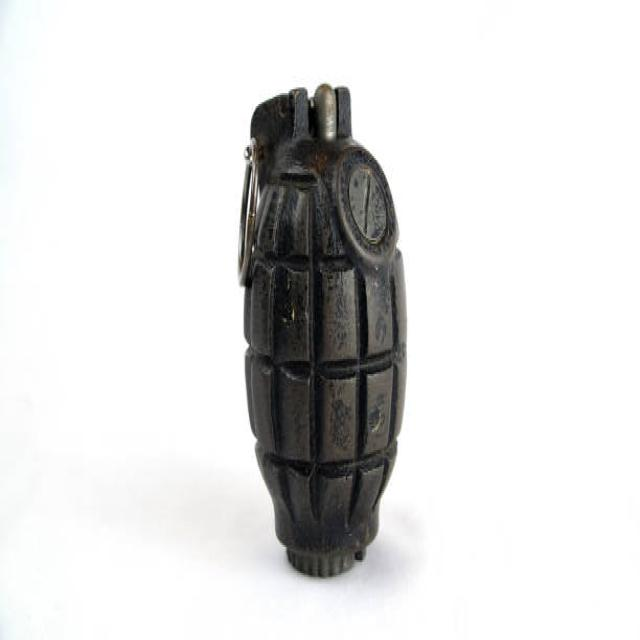grenade: (233, 65, 417, 600)
